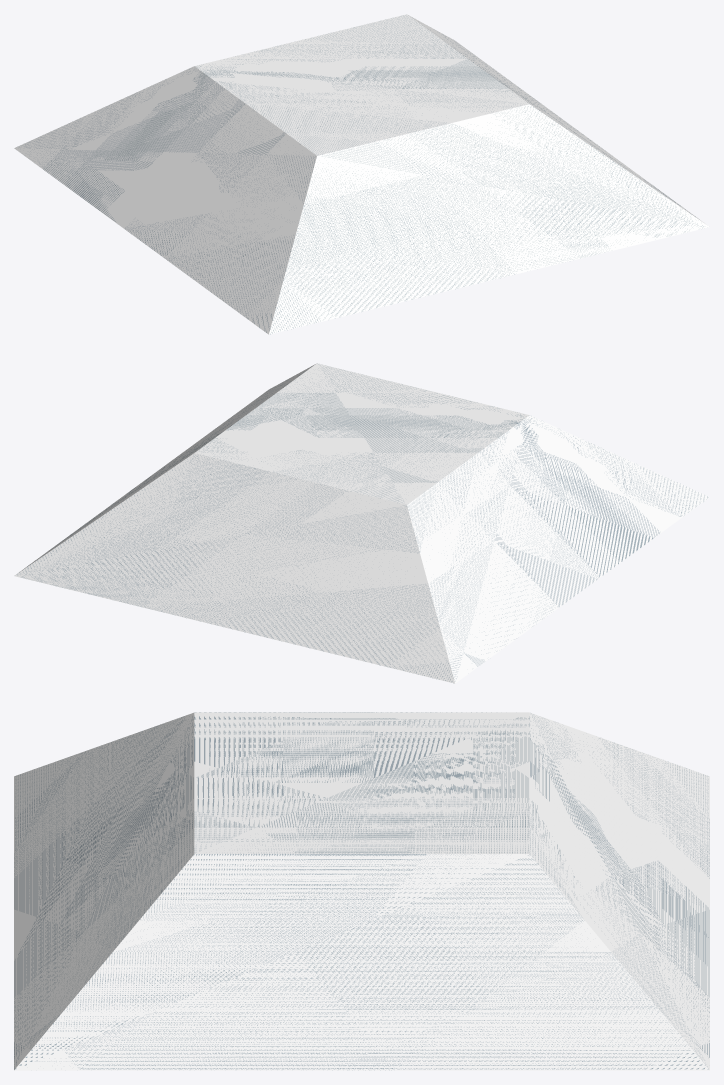
Rendered from intB.fbx.
3 renders of one model, top to bottom at view 1: azimuth 30°, elevation 25°; view 2: azimuth 150°, elevation 25°; view 3: azimuth 270°, elevation 25°, orthographic. The views are drawn at different scales.
Parts seen in each view (by area): view 1: Model; view 2: Model; view 3: Model.
Boxes of the visible parts, bbox=[...] form: Model: bbox=[14, 14, 709, 334]; Model: bbox=[14, 363, 709, 683]; Model: bbox=[14, 712, 709, 1070].
Bounding box in the file's own units: 1.4 × 0.311 × 1.4.
